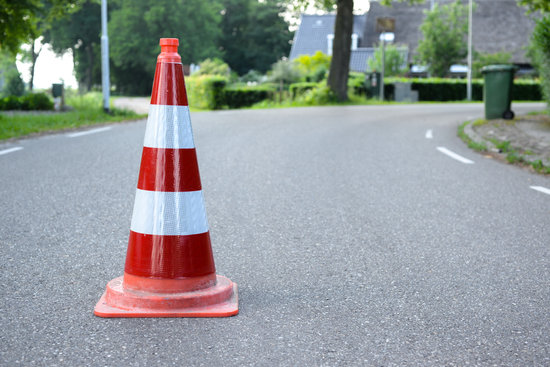cone: (94, 38, 238, 317)
